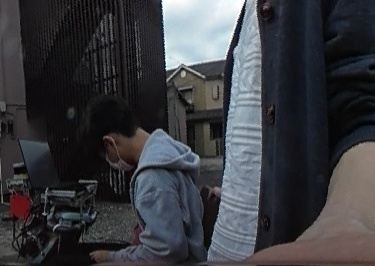person: (59, 90, 199, 266)
